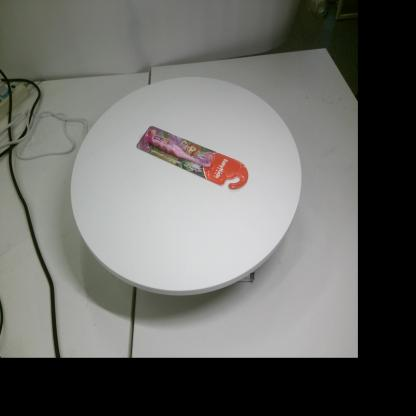Personal Hygiene: (136, 126, 249, 189)
